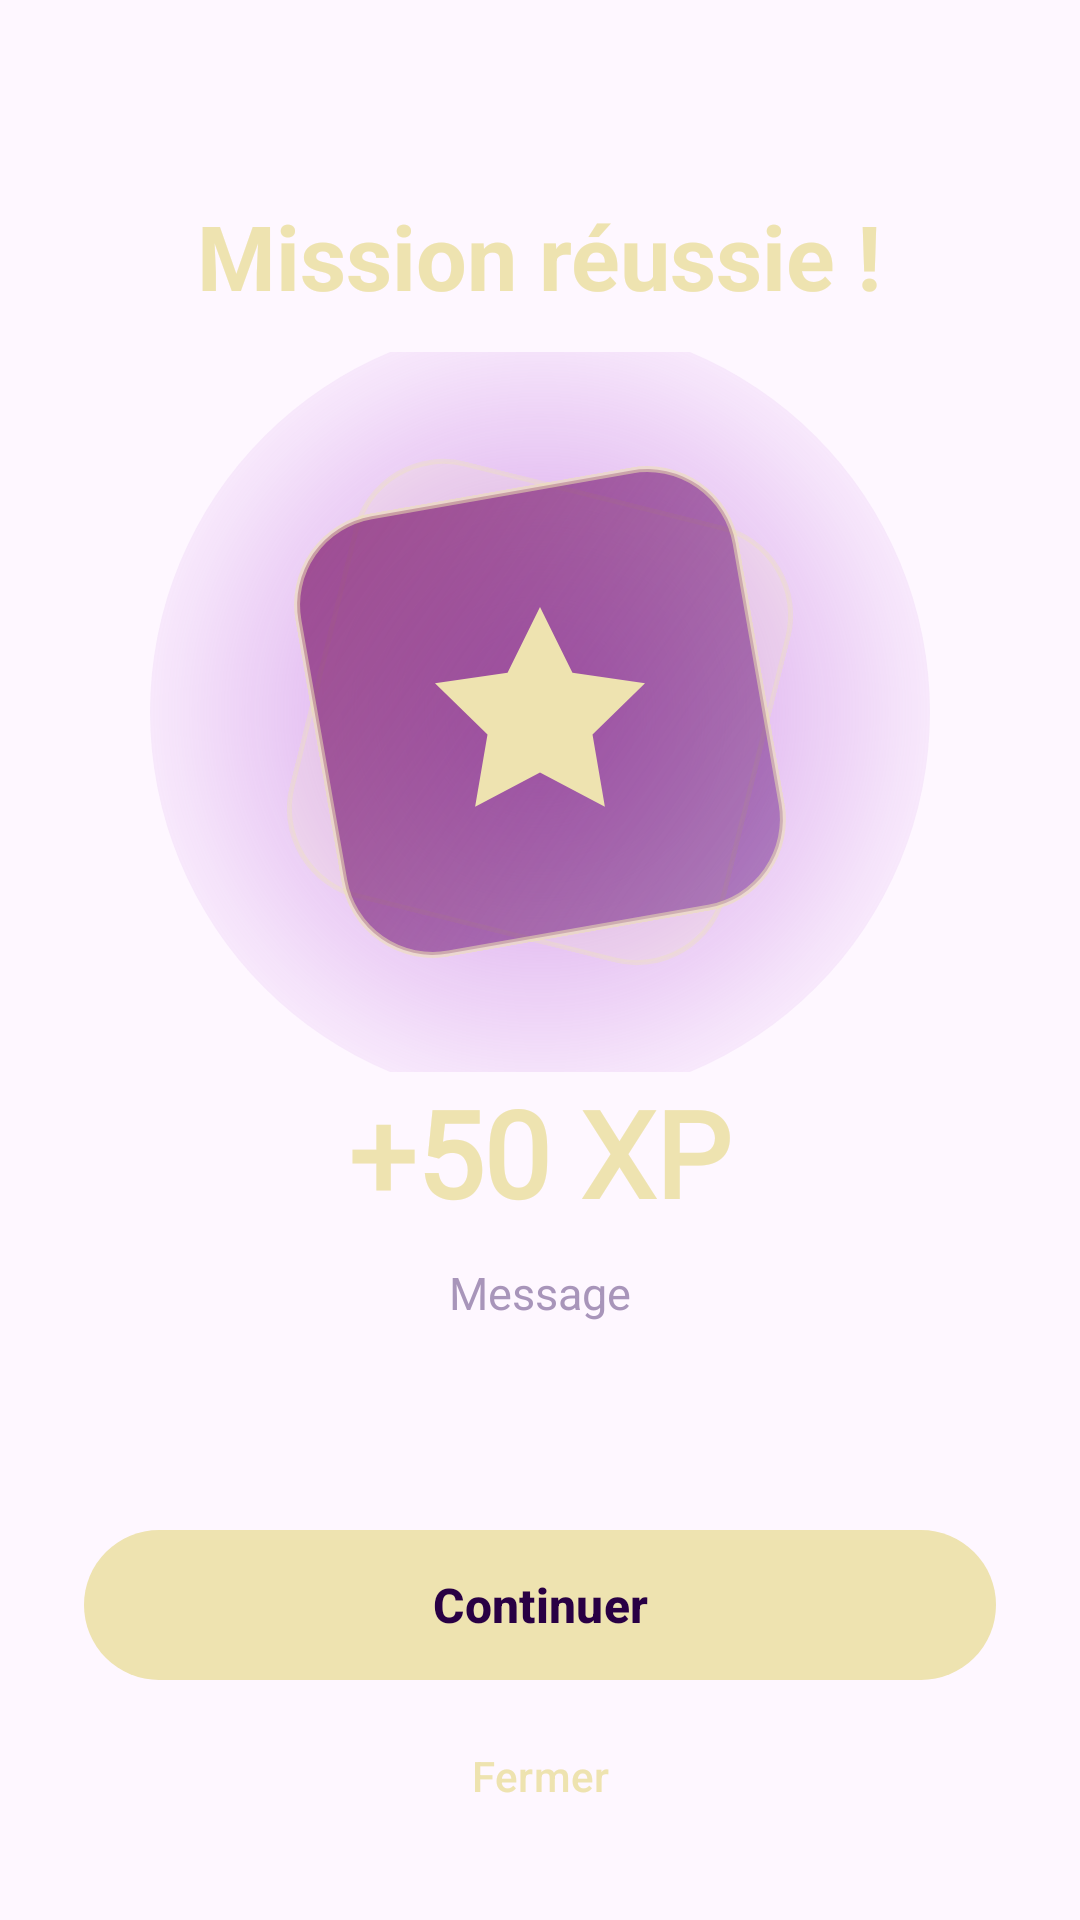

Locate icon controls on the screen. Image size 1080px×1920px, boxes as box(x1, y1, x2, y2).
star: box(435, 607, 645, 807)
